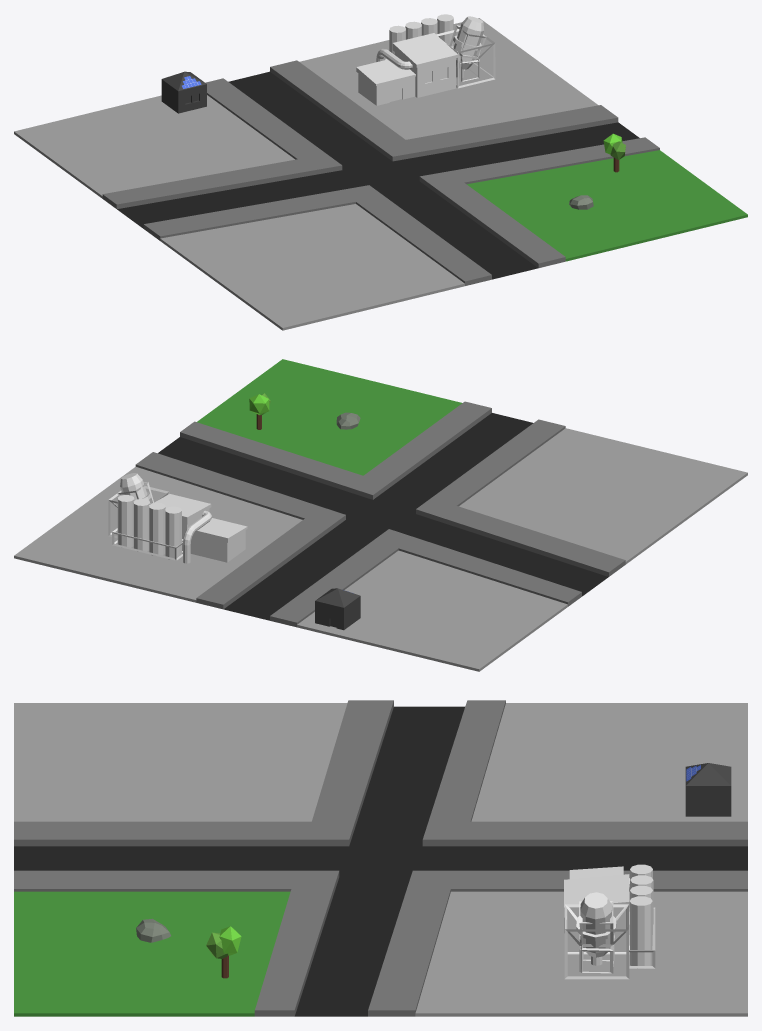
Rendered from groundplane.fbx.
3 renders of one model, top to bottom at view 1: azimuth 30°, elevation 25°; view 2: azimuth 150°, elevation 25°; view 3: azimuth 270°, elevation 25°, orthographic. The views are drawn at different scales.
Parts seen in each view (by area): view 1: GroundPlane, Cube, Cube.003, HouseModel, Cube.001, Cylinder.004; view 2: GroundPlane, Cube.003, HouseModel, Cube, Cylinder.003, Cylinder.001, Cylinder, Cylinder.002, Cylinder.004; view 3: GroundPlane, Cube, HouseModel, Cube.001, Cylinder.004, Cylinder.003, Tree, Stone.
Part boxes in pixels (x1=…): GroundPlane: x1=14, y1=18, x2=747, y2=330; Cube: x1=392, y1=33, x2=458, y2=97; Cube.003: x1=356, y1=59, x2=415, y2=105; HouseModel: x1=161, y1=71, x2=206, y2=113; Cube.001: x1=436, y1=25, x2=495, y2=88; Cylinder.004: x1=453, y1=16, x2=484, y2=77; GroundPlane: x1=14, y1=359, x2=747, y2=671; Cube.003: x1=190, y1=518, x2=247, y2=562; HouseModel: x1=315, y1=588, x2=360, y2=630; Cube: x1=153, y1=494, x2=211, y2=553; Cylinder.003: x1=117, y1=495, x2=134, y2=547; Cylinder.001: x1=149, y1=502, x2=165, y2=555; Cylinder: x1=165, y1=506, x2=181, y2=559; Cylinder.002: x1=133, y1=499, x2=150, y2=551; Cylinder.004: x1=120, y1=473, x2=151, y2=500; GroundPlane: x1=14, y1=700, x2=747, y2=1016; Cube: x1=564, y1=874, x2=629, y2=951; HouseModel: x1=685, y1=763, x2=731, y2=816; Cube.001: x1=564, y1=901, x2=629, y2=979; Cylinder.004: x1=576, y1=892, x2=616, y2=965; Cylinder.003: x1=629, y1=896, x2=652, y2=968; Tree: x1=206, y1=926, x2=241, y2=978; Stone: x1=136, y1=918, x2=170, y2=942.
Size of the model in its own units: 200 by 24.14 by 200.
